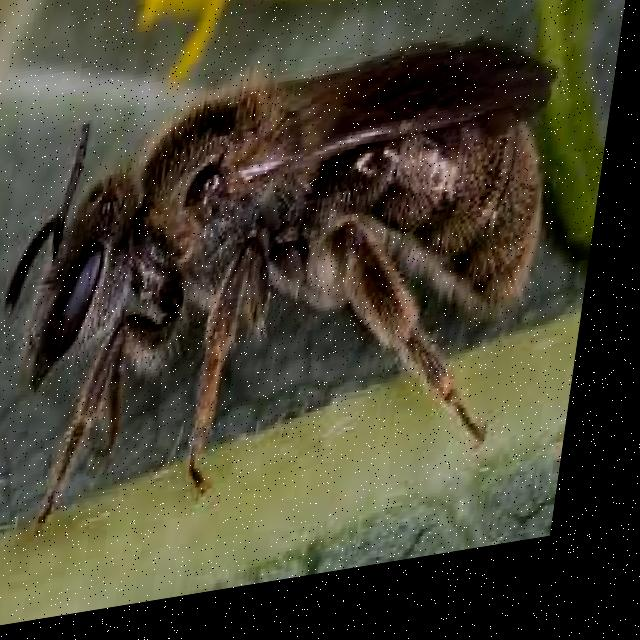Lasioglossum: (0, 22, 579, 519)
